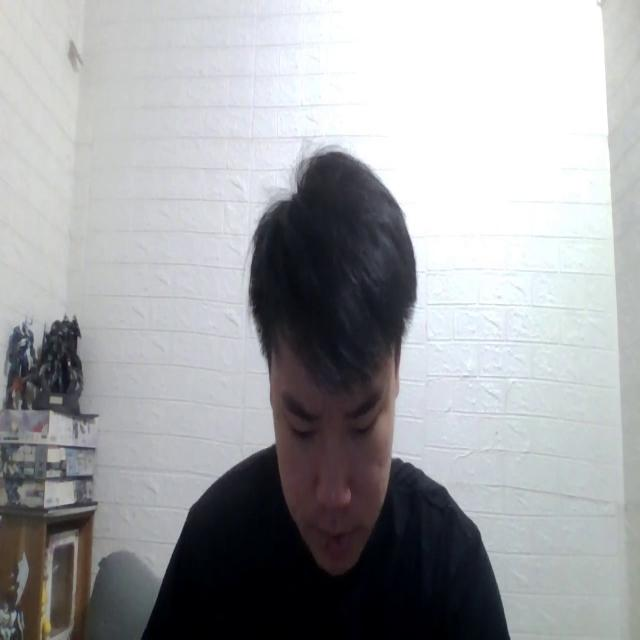student: (135, 139, 510, 640)
